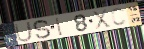8: (73, 13, 89, 33)
C: (110, 7, 129, 27)
I: (54, 16, 64, 37)
S: (32, 19, 52, 41)
U: (13, 20, 34, 43)
X: (92, 8, 112, 30)
